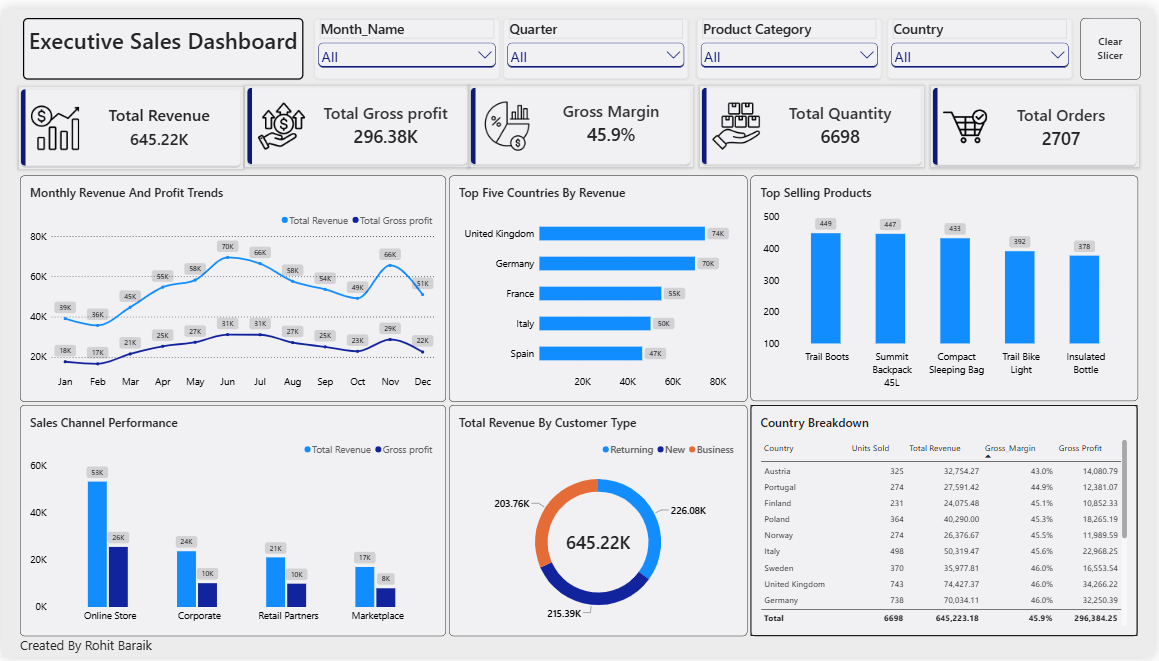

What the dashboard file says about the page in this screenshot:
{"tool":"powerbi","page":{"name":"Page 1","canvas":[1920,1080],"ordinal":0},"visuals":[{"type":"textbox","box":[35,15,467.5,102.5],"z":0},{"type":"slicer","fields":{"Values":["Date_Table.Month_Name"]},"box":[520,15,309.9,102.5],"z":0,"group":"g1"},{"type":"cardVisual","fields":{"Data":["All_Measures.Total_Revenue"]},"box":[26.7,128.4,374.7,135.8],"z":0,"group":"g2"},{"type":"slicer","fields":{"Values":["Date_Table.Quarter"]},"box":[836,15.2,309.1,102],"z":1000,"group":"g1"},{"type":"cardVisual","fields":{"Data":["All_Measures.Total_Quantity"]},"box":[1161.5,126.7,374.2,135.8],"z":1000,"group":"g2"},{"type":"tableEx","title":"Country Breakdown","fields":{"Values":["Sales_Data.Country","Sum(Sales_Data.Units Sold)","All_Measures.Total_Revenue","All_Measures.Gross_Margin","All_Measures.Total_Gross_profit"]},"box":[1247.5,660,645,385],"z":1000},{"type":"slicer","fields":{"Values":["Sales_Data.Product Category"]},"box":[1158.2,16.2,309.1,102],"z":2000,"group":"g1"},{"type":"cardVisual","fields":{"Data":["All_Measures.Gross_Margin"]},"box":[777.9,126.7,374.2,135.8],"z":2000,"group":"g2"},{"type":"clusteredColumnChart","title":"Sales Channel Performance","fields":{"Category":["Sales_Data.Sales Channel"],"Y":["All_Measures.Total_Revenue","All_Measures.Total_Gross_profit"]},"box":[30,660,710,385],"z":2000},{"type":"slicer","fields":{"Values":["Sales_Data.Country"]},"box":[1476.1,16.2,309.4,102],"z":3000,"group":"g1"},{"type":"cardVisual","fields":{"Data":["All_Measures.Total_Gross_profit"]},"box":[404.3,126.7,374.2,135.8],"z":3000,"group":"g2"},{"type":"clusteredColumnChart","title":"Top Selling Products","fields":{"Category":["Sales_Data.Product"],"Y":["All_Measures.Total_Quantity"]},"box":[1247.5,277.5,646.2,376.2],"z":3000},{"type":"cardVisual","fields":{"Data":["All_Measures.Total_orders"]},"box":[1546.6,126.7,347.7,136.5],"z":4000,"group":"g2"},{"type":"donutChart","title":"Total Revenue By Customer Type","fields":{"Category":["Sales_Data.Customer Type"],"Y":["All_Measures.Total_Revenue"]},"box":[745,660,497.5,385],"z":4000},{"type":"lineChart","title":"Monthly Revenue And Profit Trends","fields":{"Category":["Date_Table.Month_Name"],"Y":["All_Measures.Total_Revenue","All_Measures.Total_Gross_profit"]},"box":[30,277.5,710,377.5],"z":5000},{"type":"clusteredBarChart","title":"Top Five Countries  By Revenue","fields":{"Category":["Sales_Data.Country"],"Y":["All_Measures.Total_Revenue"]},"box":[745,277.5,497.5,377.5],"z":6000},{"type":"actionButton","box":[1797.5,15,100,102.5],"z":7000},{"type":"group","id":"g1","title":"Group 1","box":[520,15,1265,102.5],"z":8000},{"type":"group","id":"g2","title":"Group 2","box":[26.7,126.7,1868.3,138.3],"z":9000},{"type":"textbox","box":[30,1045,240,35],"z":9001}]}

Visuals, with their boxes in screenshot pixels (x1, y1, x2, y2), scaled from the page's 1920x1080 canvas onto the 1159x661 screenshot:
textbox: locate(21, 9, 303, 72)
slicer - Date_Table.Month_Name: locate(314, 9, 501, 72)
cardVisual - All_Measures.Total_Revenue: locate(16, 79, 242, 162)
slicer - Date_Table.Quarter: locate(505, 9, 691, 72)
cardVisual - All_Measures.Total_Quantity: locate(701, 78, 927, 161)
"Country Breakdown" tableEx: locate(753, 404, 1142, 640)
slicer - Sales_Data.Product Category: locate(699, 10, 886, 72)
cardVisual - All_Measures.Gross_Margin: locate(470, 78, 695, 161)
"Sales Channel Performance" clusteredColumnChart: locate(18, 404, 447, 640)
slicer - Sales_Data.Country: locate(891, 10, 1078, 72)
cardVisual - All_Measures.Total_Gross_profit: locate(244, 78, 470, 161)
"Top Selling Products" clusteredColumnChart: locate(753, 170, 1143, 400)
cardVisual - All_Measures.Total_orders: locate(934, 78, 1143, 161)
"Total Revenue By Customer Type" donutChart: locate(450, 404, 750, 640)
"Monthly Revenue And Profit Trends" lineChart: locate(18, 170, 447, 401)
"Top Five Countries  By Revenue" clusteredBarChart: locate(450, 170, 750, 401)
actionButton: locate(1085, 9, 1145, 72)
"Group 1" group: locate(314, 9, 1078, 72)
"Group 2" group: locate(16, 78, 1144, 162)
textbox: locate(18, 640, 163, 660)
